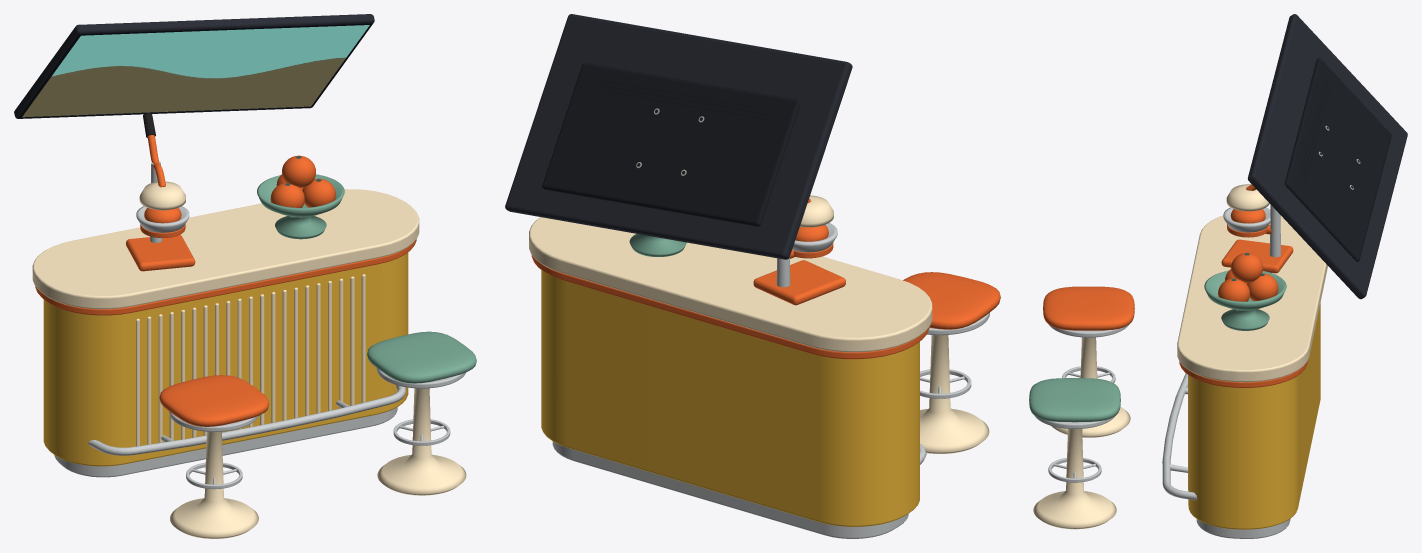
File: citrus.glb
The picture shows the model from 3 angles, left to right: view 1: azimuth 30°, elevation 25°; view 2: azimuth 150°, elevation 25°; view 3: azimuth 270°, elevation 25°; orthographic projection. The views are drawn at different scales.
Parts seen in each view (by area): view 1: Lemon cabinet, Countertop, TV / active picture.017, TV / active picture.016, TV / graphite frame.008, Vinyl button seat.001, Vinyl button seat, Flared enamel pedestal.001, Flared enamel pedestal, Inset toe kick, Chrome footrail, Tangerine edge (+20 smaller); view 2: Lemon cabinet, TV / graphite frame.008, TV / rear enclosure.008, Countertop, Inset toe kick, Flared enamel pedestal, Vinyl button seat, Tangerine edge, Cast press foot, TV / cooling louvres.008, Sorbet coupe, Press bell (+1 smaller); view 3: Lemon cabinet, Countertop, TV / graphite frame.008, TV / rear enclosure.008, Vinyl button seat, Vinyl button seat.001, Flared enamel pedestal.001, Sorbet coupe, Flared enamel pedestal, Chrome footrail, Cast press foot, Inset toe kick (+9 smaller).
Part boxes in pixels (<box>): Lemon cabinet: <box>43,252,408,466</box>; Countertop: <box>32,189,419,309</box>; TV / active picture.017: <box>166,25,369,111</box>; TV / active picture.016: <box>22,30,224,117</box>; TV / graphite frame.008: <box>14,14,374,118</box>; Vinyl button seat.001: <box>367,331,476,383</box>; Vinyl button seat: <box>159,375,269,426</box>; Flared enamel pedestal.001: <box>377,388,466,495</box>; Flared enamel pedestal: <box>170,431,258,538</box>; Inset toe kick: <box>54,407,397,477</box>; Chrome footrail: <box>88,385,406,455</box>; Tangerine edge: <box>35,239,416,315</box>; Lemon cabinet: <box>541,270,919,526</box>; TV / graphite frame.008: <box>505,14,852,259</box>; TV / rear enclosure.008: <box>542,63,801,226</box>; Countertop: <box>529,217,932,352</box>; Inset toe kick: <box>552,441,908,538</box>; Flared enamel pedestal: <box>920,335,989,453</box>; Vinyl button seat: <box>903,272,1000,329</box>; Tangerine edge: <box>531,255,929,359</box>; Cast press foot: <box>753,260,845,305</box>; TV / cooling louvres.008: <box>598,80,770,119</box>; Sorbet coupe: <box>629,234,686,256</box>; Press bell: <box>800,195,833,227</box>; Lemon cabinet: <box>1188,303,1320,529</box>; Countertop: <box>1177,209,1327,382</box>; TV / graphite frame.008: <box>1247,14,1407,299</box>; TV / rear enclosure.008: <box>1284,58,1391,261</box>; Vinyl button seat: <box>1043,286,1134,330</box>; Vinyl button seat.001: <box>1029,378,1120,422</box>; Flared enamel pedestal.001: <box>1033,429,1116,529</box>; Sorbet coupe: <box>1204,270,1286,330</box>; Flared enamel pedestal: <box>1051,337,1130,437</box>; Chrome footrail: <box>1162,373,1197,500</box>; Cast press foot: <box>1221,239,1293,273</box>; Inset toe kick: <box>1196,518,1290,538</box>.
Bounding box in the file's own units: 6.34 × 7.22 × 6.27.
14 materials, 2 textured.
